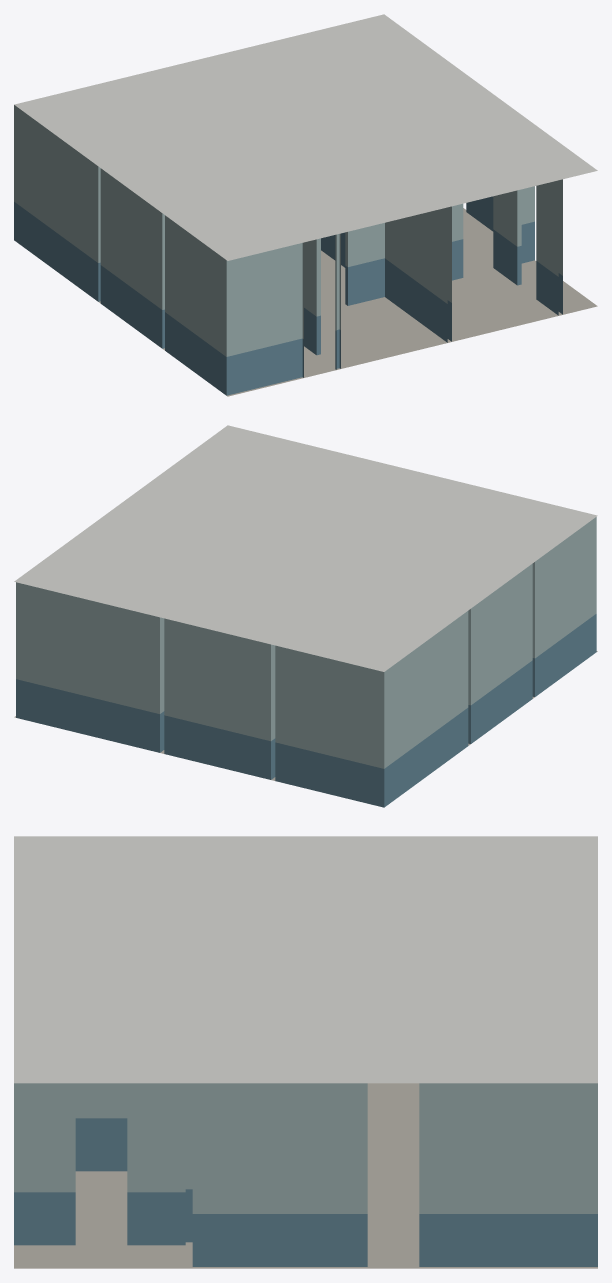
Rendered from chunk_0_0.glb.
3 renders of one model, top to bottom at view 1: azimuth 30°, elevation 25°; view 2: azimuth 150°, elevation 25°; view 3: azimuth 270°, elevation 25°, orthographic. The views are drawn at different scales.
Parts seen in each view (by area): view 1: chunk_0_0; view 2: chunk_0_0; view 3: chunk_0_0.
Boxes of the visible parts, bbox=[...] form: chunk_0_0: bbox=[14, 14, 597, 396]; chunk_0_0: bbox=[14, 425, 597, 807]; chunk_0_0: bbox=[14, 836, 597, 1268].
Bounding box in the file's own units: 12 × 4.2 × 12.
